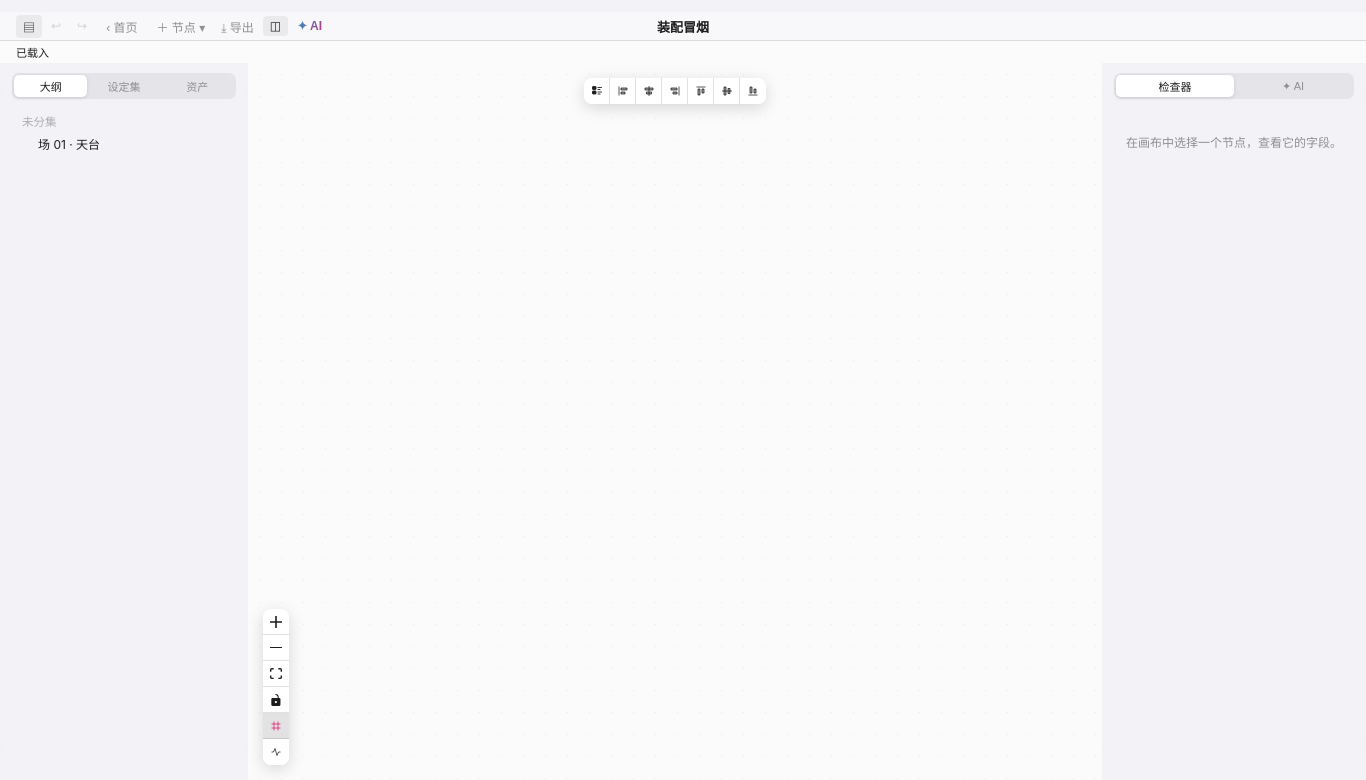
Scenario: EditorView 装配（issue #35） › ＋节点创建仍入命令栈：创建后大纲出现新节点，撤销移除、重做恢复
expect the button named "撤销" is disabled: met, box x1=44 y1=16 x2=68 y2=36
Click the button with aria-label "新增节点".
click(181, 26)  # box x1=150 y1=14 x2=212 y2=38
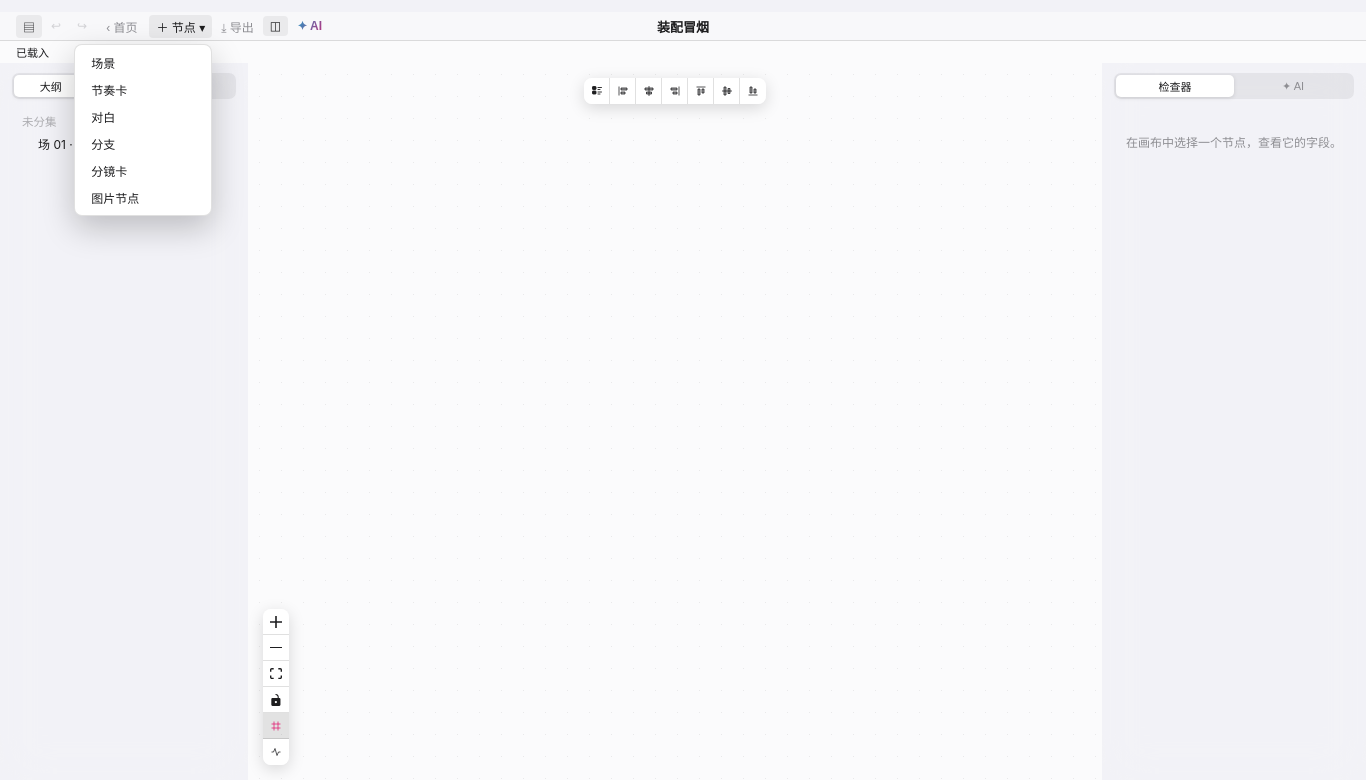
Click the menu item "场景".
click(143, 62)  # box x1=79 y1=48 x2=207 y2=76
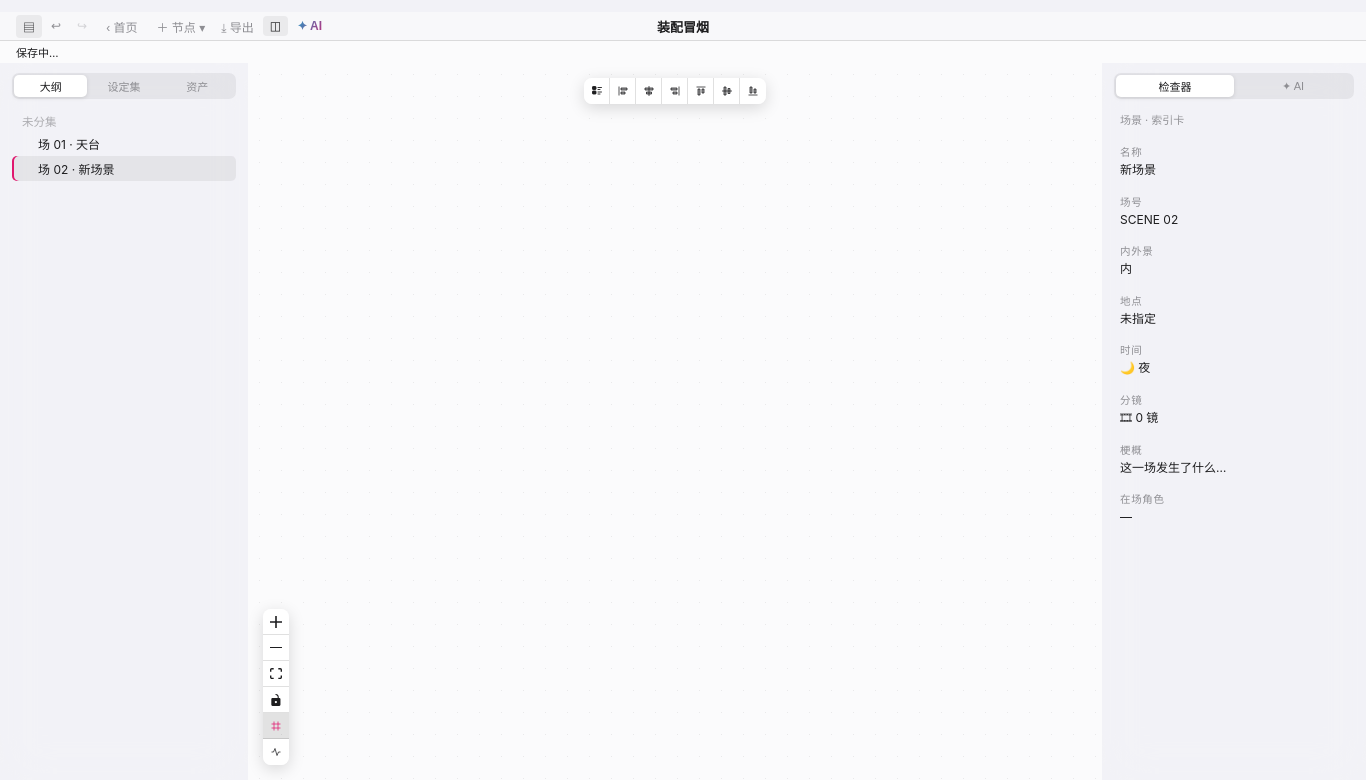
expect the button "场 02 · 新场景" is shown: met, box x1=12 y1=156 x2=236 y2=181
expect the button named "撤销" is enabled: met
Click the button named "撤销".
click(56, 26)  # box x1=44 y1=16 x2=68 y2=36
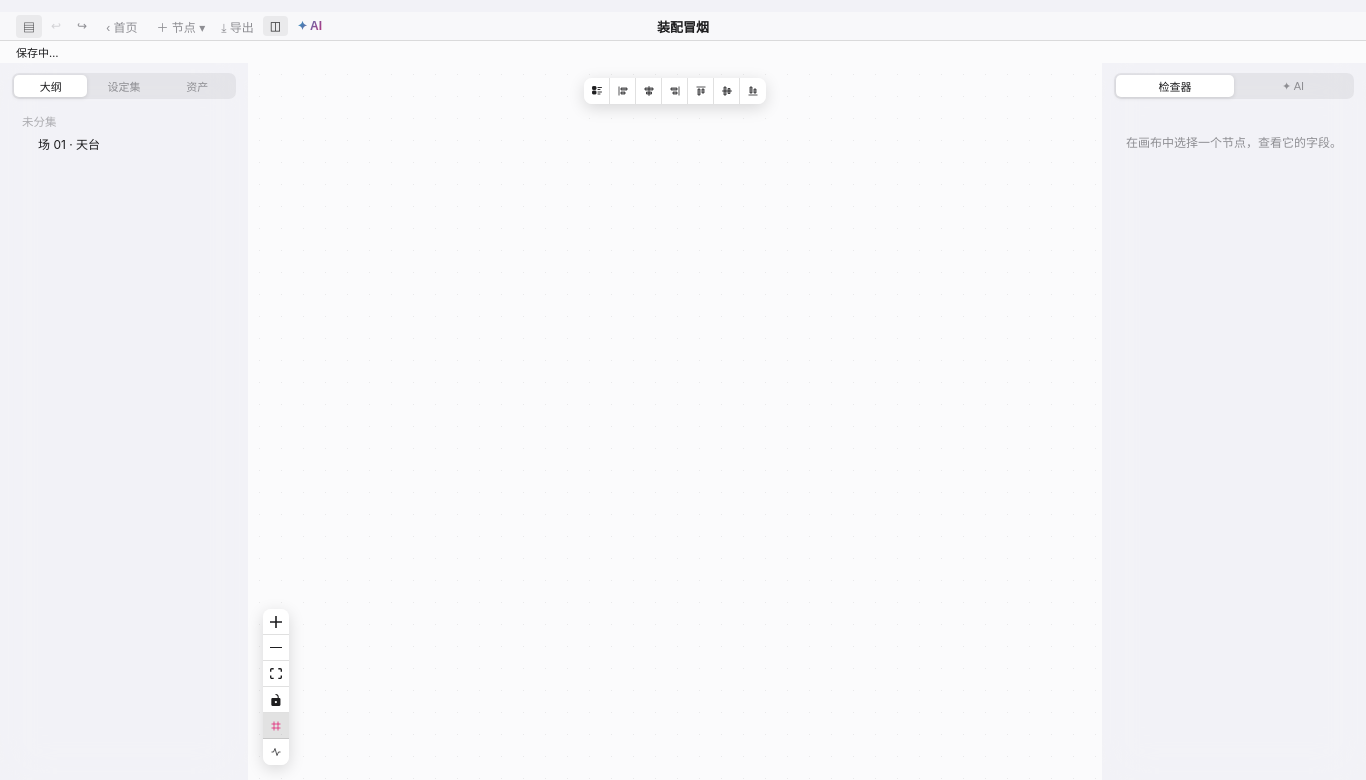
expect the button "场 02 · 新场景" is gone: met
Click the button named "重做".
click(82, 26)  # box x1=70 y1=16 x2=94 y2=36
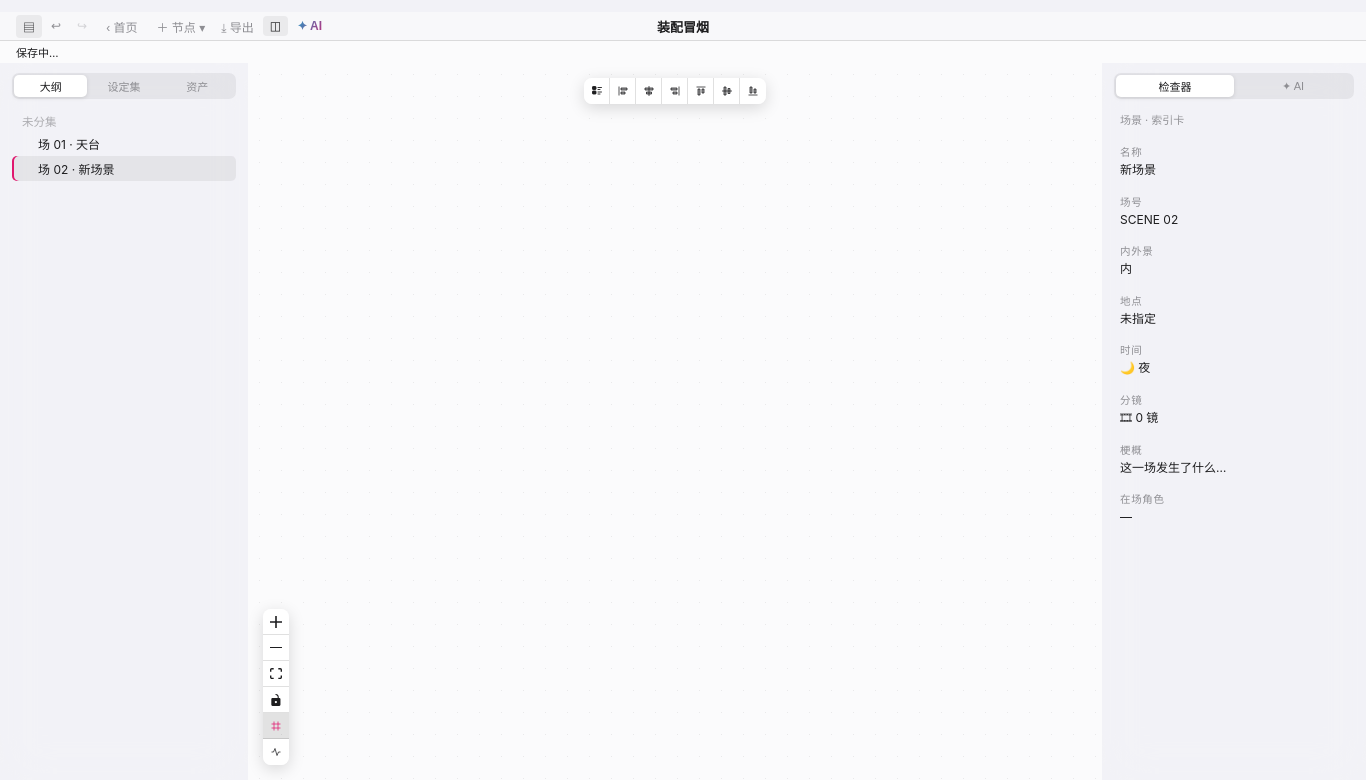
expect the button "场 02 · 新场景" is shown: met, box x1=12 y1=156 x2=236 y2=181
